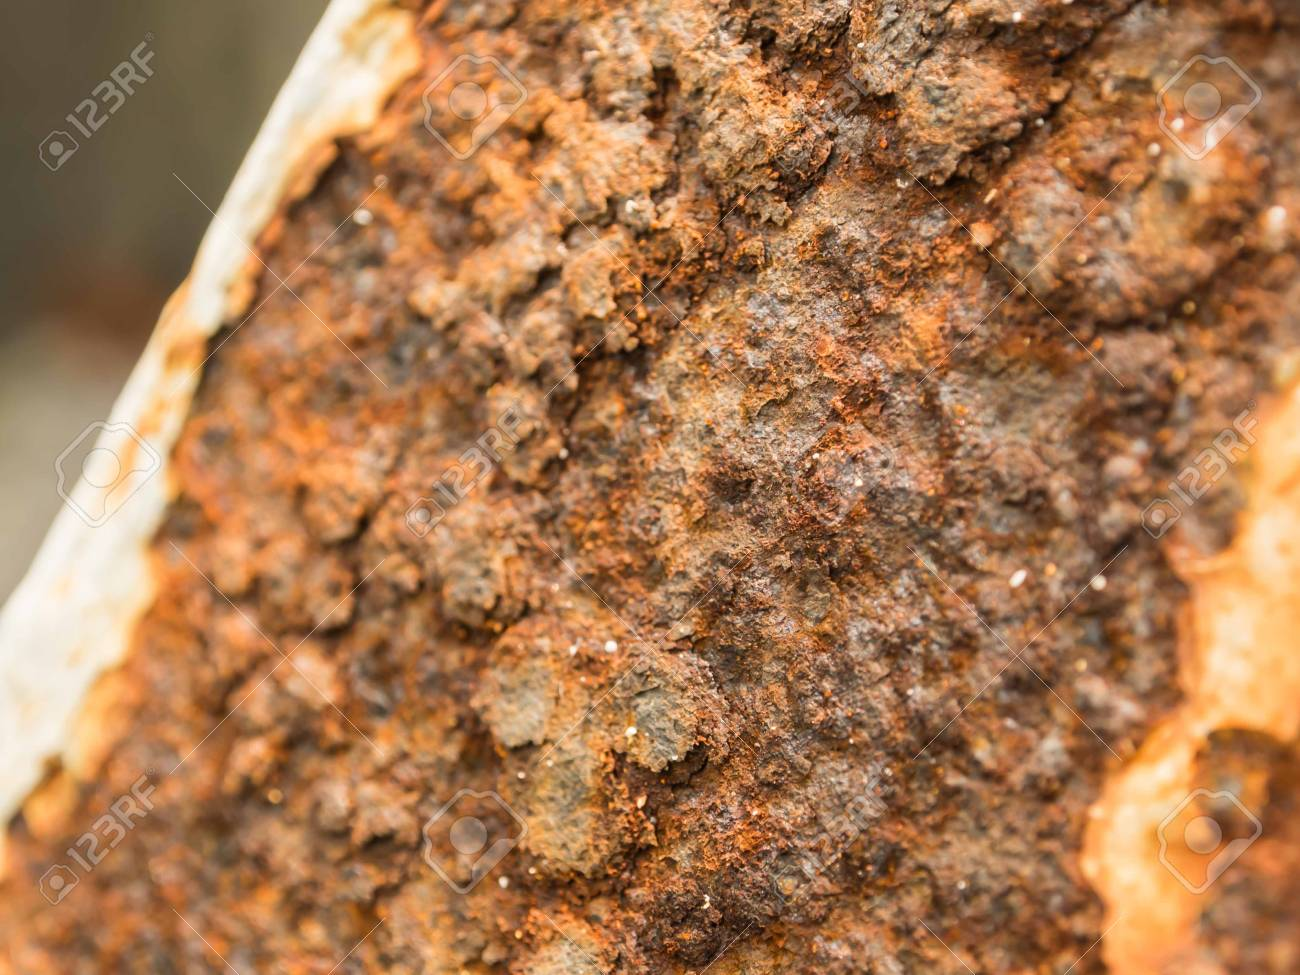rust: (34, 16, 1221, 975)
